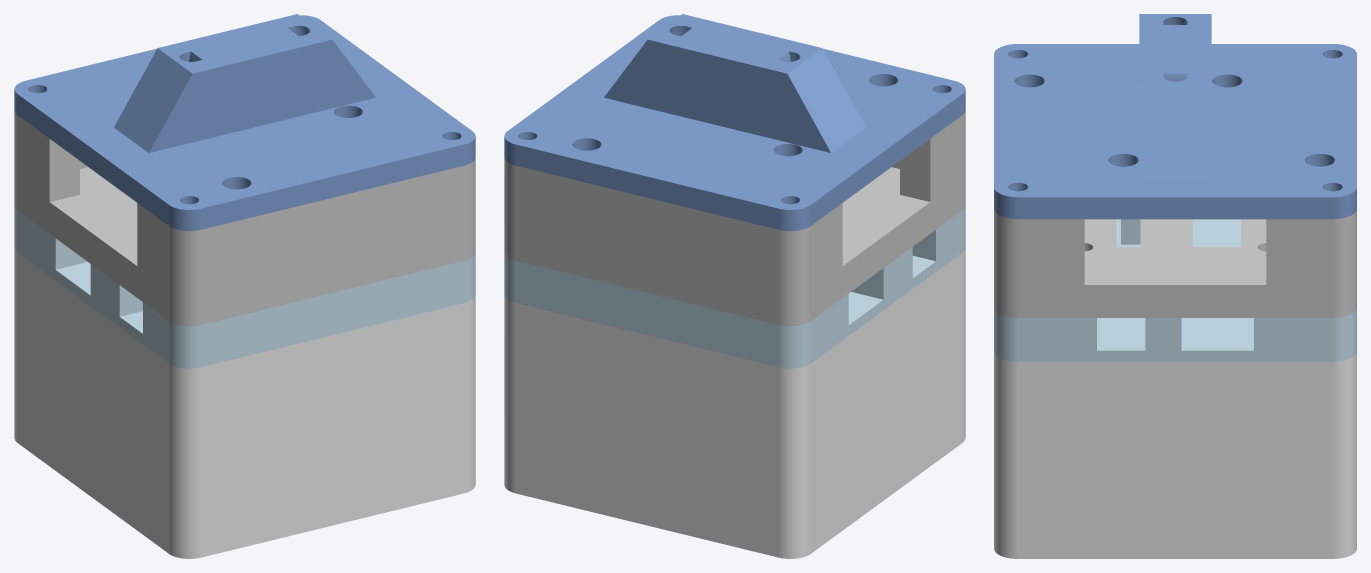
Rendered from Payload.glb.
3 renders of one model, left to right at view 1: azimuth 30°, elevation 25°; view 2: azimuth 150°, elevation 25°; view 3: azimuth 270°, elevation 25°, orthographic. The views are drawn at different scales.
Parts seen in each view (by area): view 1: Part 4, Part 3, Part 2, Part 1; view 2: Part 4, Part 3, Part 2, Part 1; view 3: Part 4, Part 3, Part 2, Part 1.
Part boxes in pixels (x1,y1,x2,y2): Part 4: (14, 248, 475, 558); Part 3: (14, 14, 475, 231); Part 2: (14, 111, 475, 326); Part 1: (14, 206, 475, 368); Part 4: (504, 248, 965, 558); Part 3: (504, 14, 965, 231); Part 2: (504, 111, 965, 326); Part 1: (504, 206, 965, 368); Part 4: (994, 352, 1356, 558); Part 3: (994, 14, 1356, 219); Part 2: (994, 210, 1356, 317); Part 1: (994, 219, 1356, 361).
Bounding box in the file's own units: 0.06 × 0.079 × 0.06.
